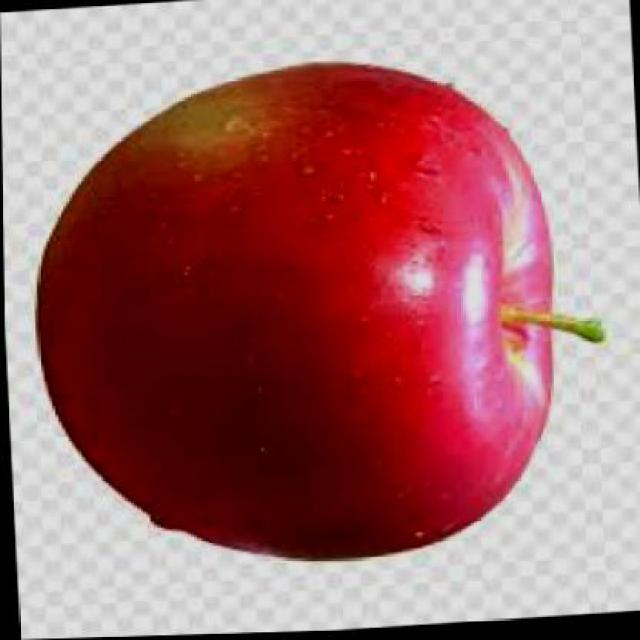Fresh Apple: (51, 80, 542, 548)
